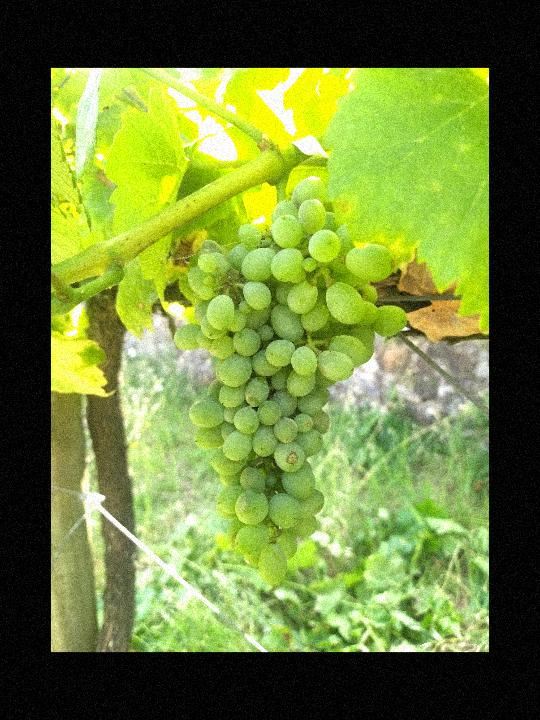grape: (169, 173, 410, 592)
